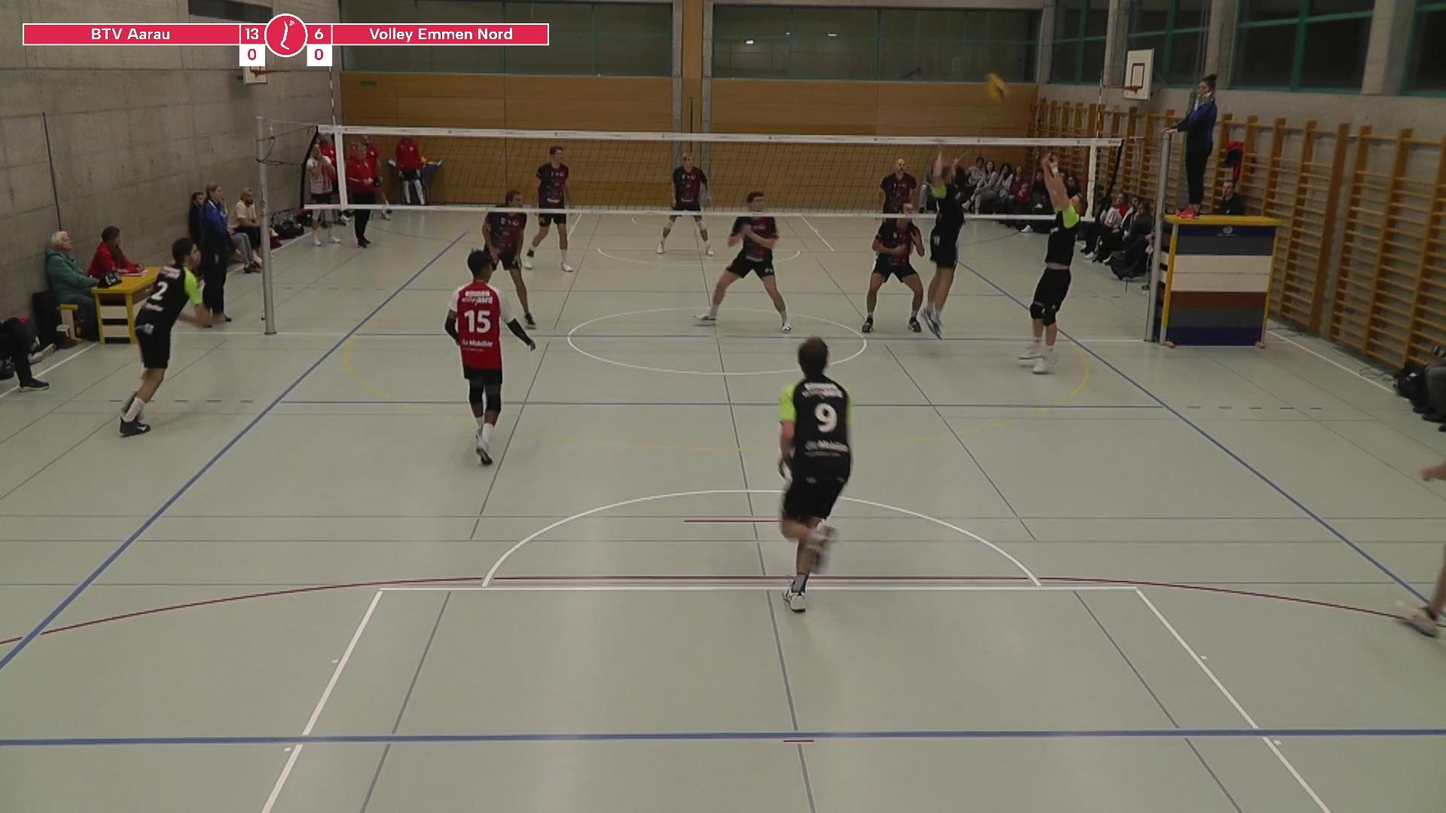alzata: (1013, 151, 1085, 373)
